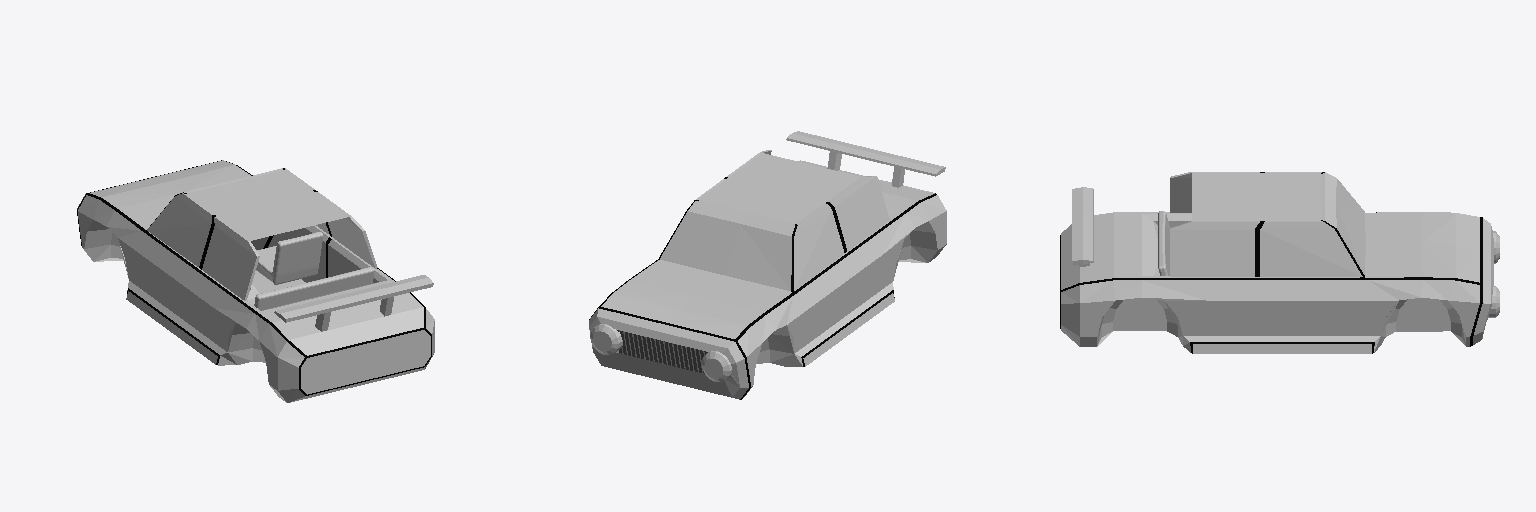
The model's file is machine.obj.
3 renders of one model, left to right at view 1: azimuth 30°, elevation 25°; view 2: azimuth 150°, elevation 25°; view 3: azimuth 270°, elevation 25°, orthographic.
Parts seen in each view (by area): view 1: Cube.028_Cube.019, Cube.003_Cube.042, Cube.004_Cube.043; view 2: Cube.028_Cube.019, Cube.030_Cube.033, Cylinder.016_Cylinder.021; view 3: Cube.028_Cube.019, Cube.004_Cube.043.
Part boxes in pixels (x1,y1,x2,y2): Cube.028_Cube.019: (77,160,434,402); Cube.003_Cube.042: (256,232,323,284); Cube.004_Cube.043: (247,267,374,337); Cube.028_Cube.019: (589,131,946,399); Cube.030_Cube.033: (617,330,707,373); Cylinder.016_Cylinder.021: (590,324,732,381); Cube.028_Cube.019: (1060,172,1493,353); Cube.004_Cube.043: (1158,211,1169,275).
Size of the model in its own units: 1.86 by 1.26 by 4.24.